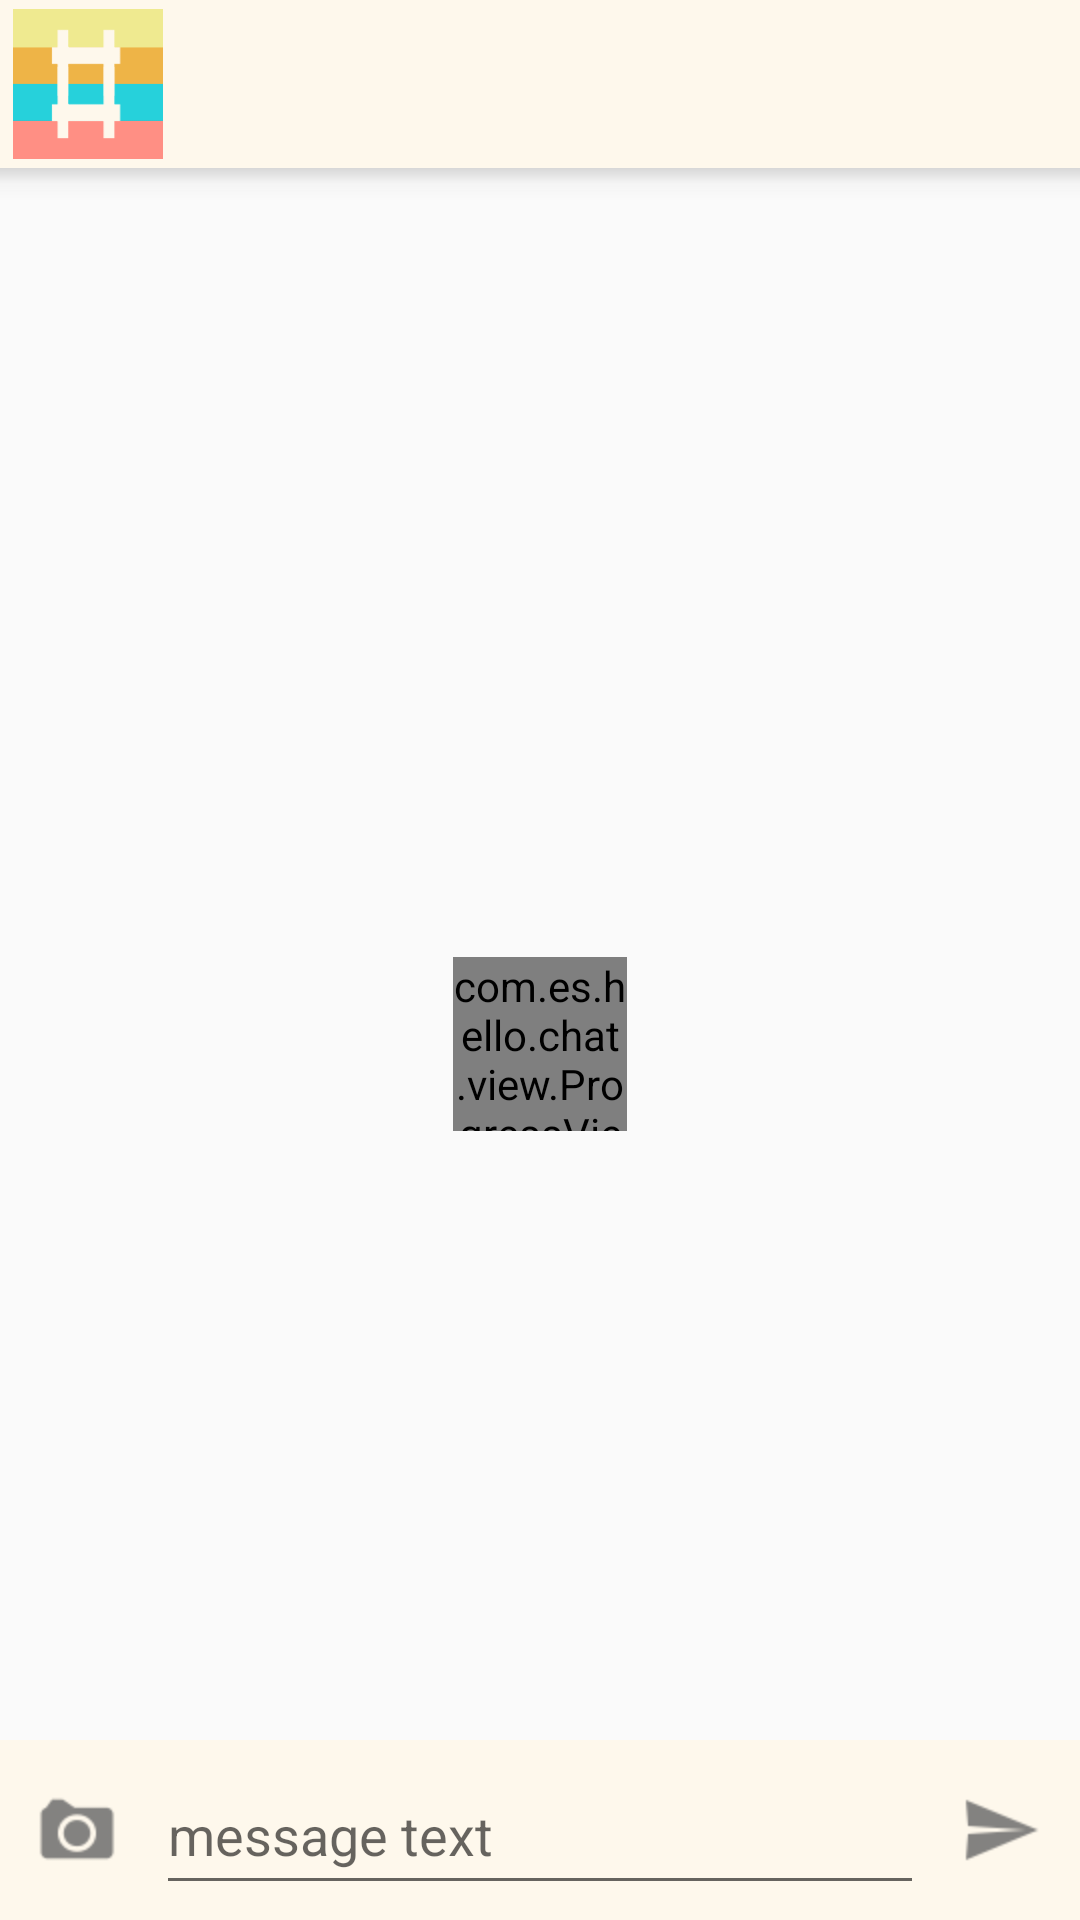

Screen size 1080*1920. Icon name, then its center in pixels as (x=x, y=y):
cam: (x=77, y=1829)
send: (x=1001, y=1830)
